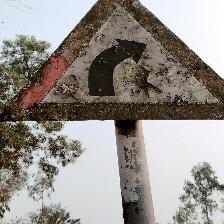Right-turn: (3, 1, 221, 119)
